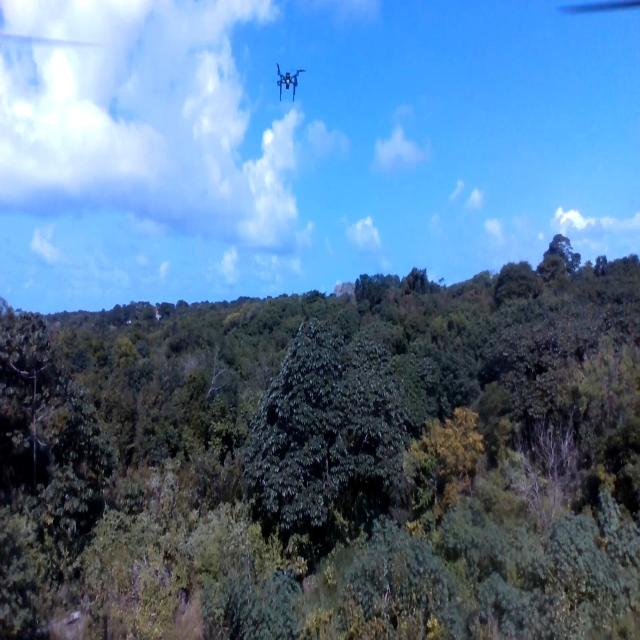-uav-: (271, 46, 303, 107)
